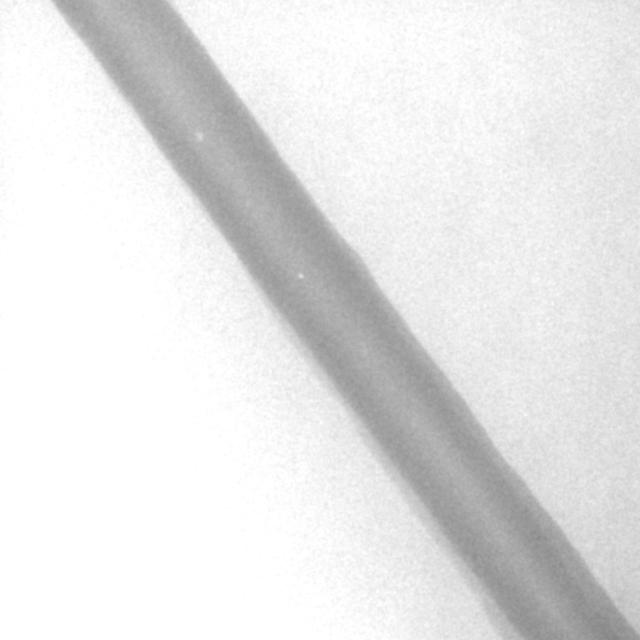air hole: (194, 129, 206, 143), (297, 270, 306, 282)
